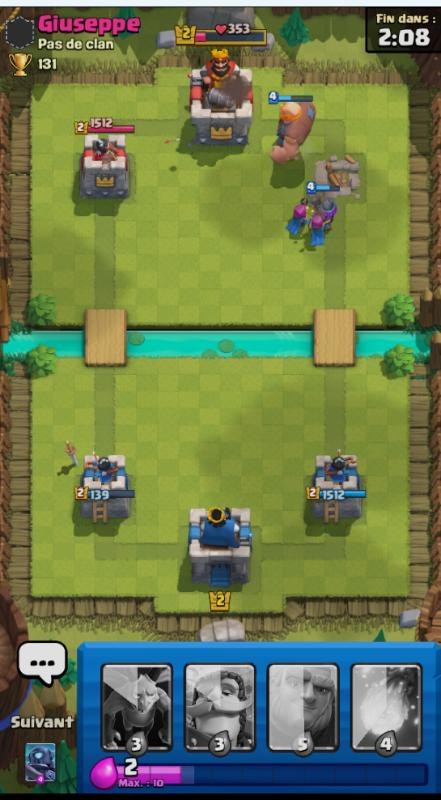archere: (300, 211, 347, 251), (282, 200, 310, 232)
geant: (266, 84, 329, 161)
mousquetaire: (312, 193, 340, 217)
